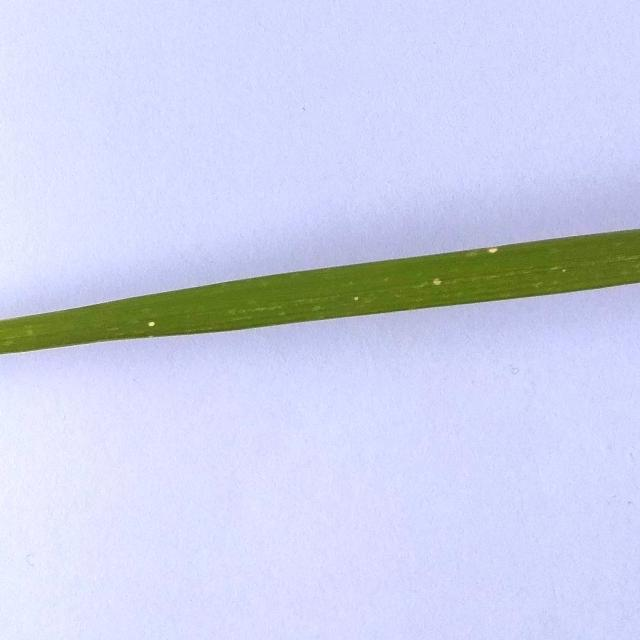Blast: (428, 278, 450, 294), (146, 320, 162, 328), (483, 247, 501, 253)
